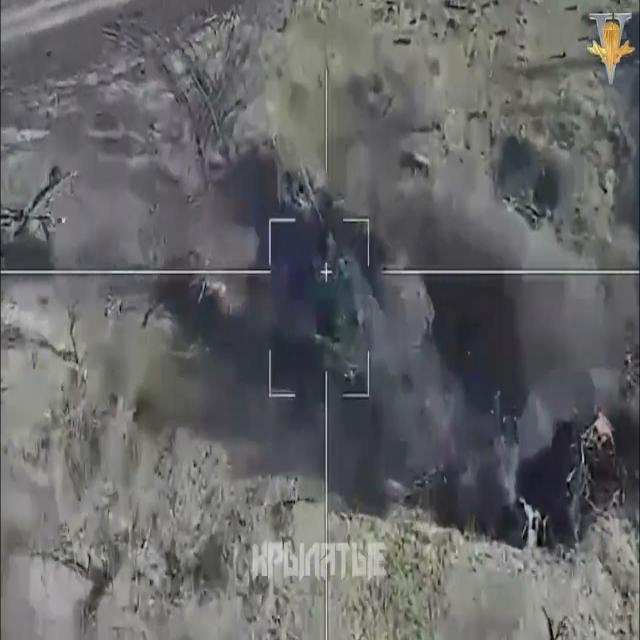cars: (309, 254, 388, 382)
